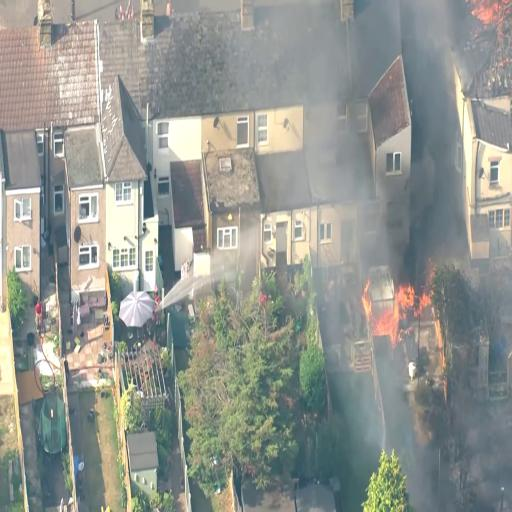fire: (359, 267, 439, 353)
